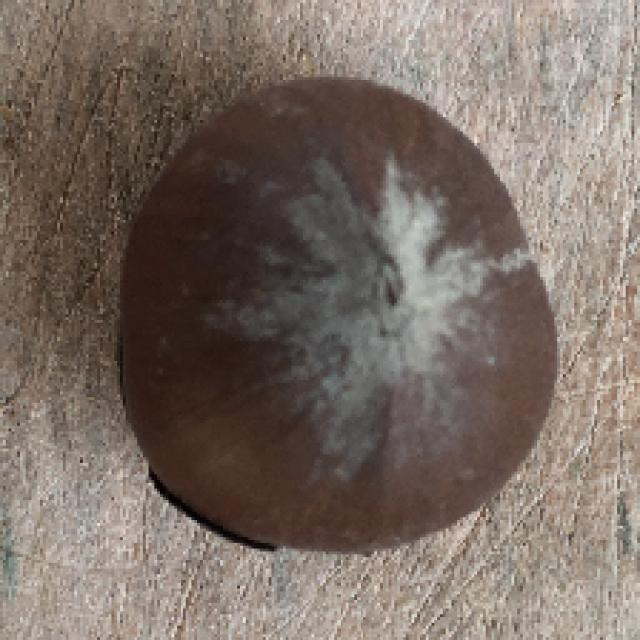damagedHazelnut: (120, 75, 560, 548)
